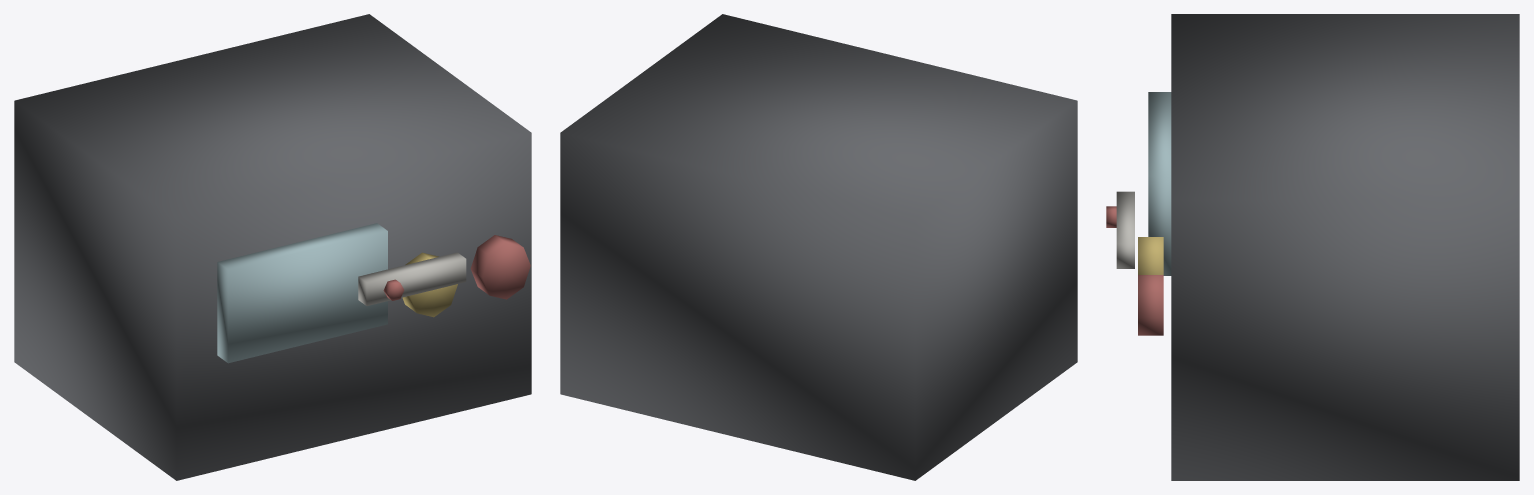
The model's file is bench_power_supply__compact.glb.
3 views of the same model, side by side, from view 1: azimuth 30°, elevation 25°; view 2: azimuth 150°, elevation 25°; view 3: azimuth 270°, elevation 25° (orthographic). The views are drawn at different scales.
Parts seen in each view (by area): view 1: world; view 2: world; view 3: world.
Boxes of the visible parts, x1,y1,x2,y2 form: world: (14,14,531,480); world: (560,14,1077,480); world: (1106,14,1519,480).
Size of the model in its own units: 0.3696 by 0.2604 by 0.347.
